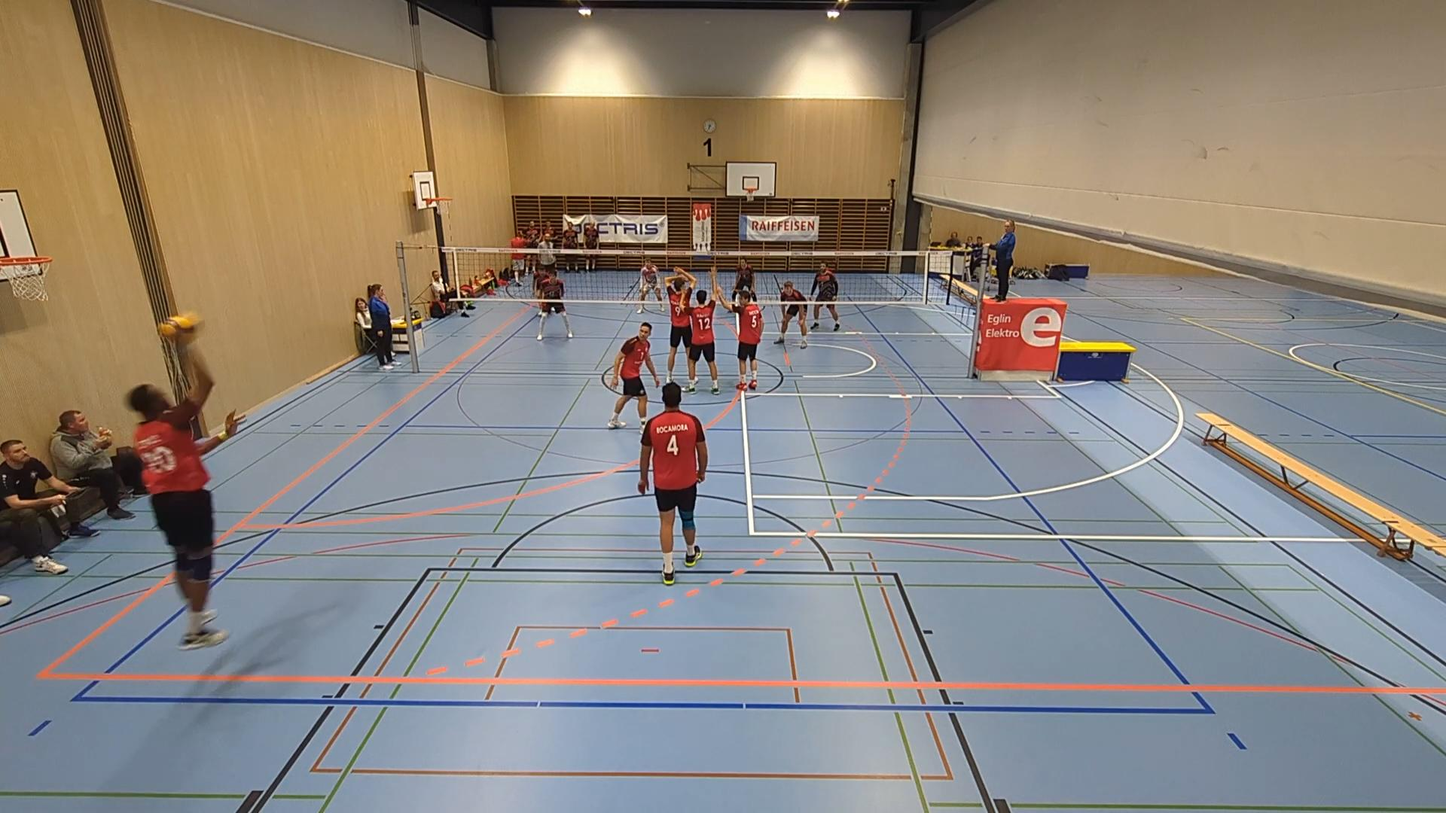Player: (638, 382, 707, 585), (608, 322, 659, 428), (725, 292, 764, 388), (664, 266, 696, 380), (686, 288, 718, 394), (536, 270, 572, 340), (774, 281, 807, 347), (810, 263, 839, 330), (637, 258, 662, 313), (731, 258, 755, 301)
Serve: (113, 332, 236, 655)
ball: (160, 313, 203, 336)
